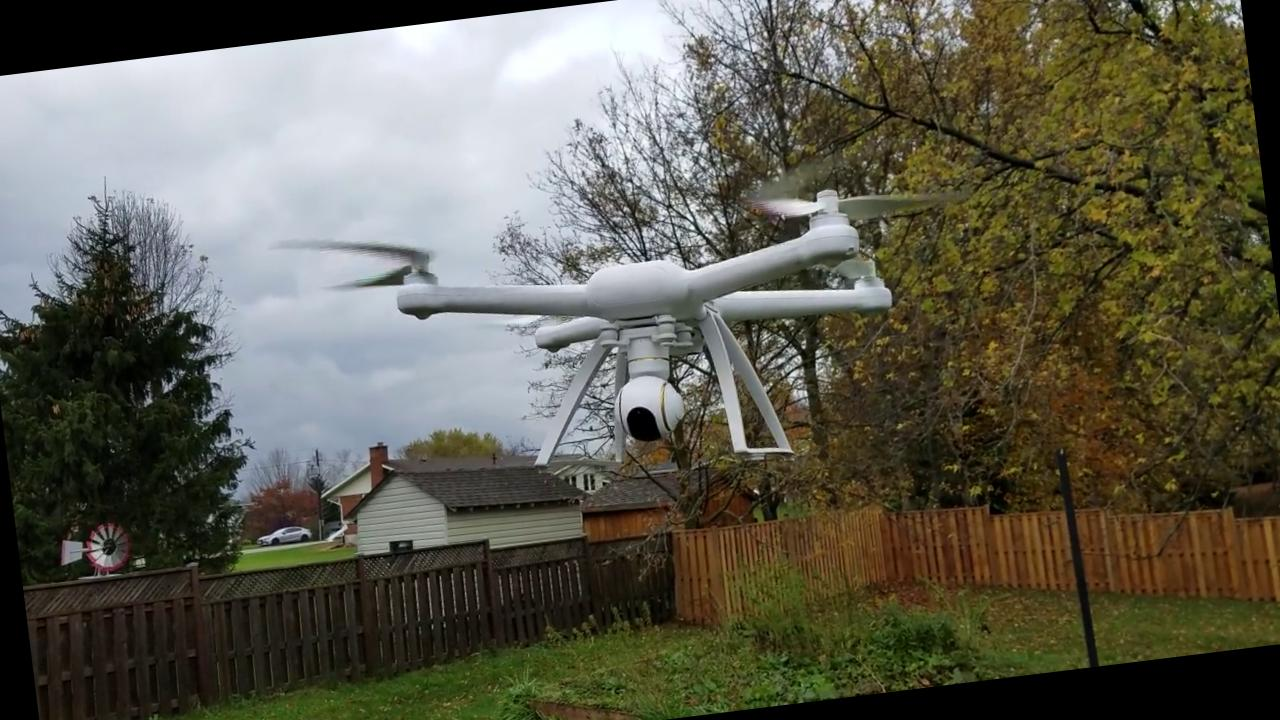drone: (262, 152, 944, 420)
